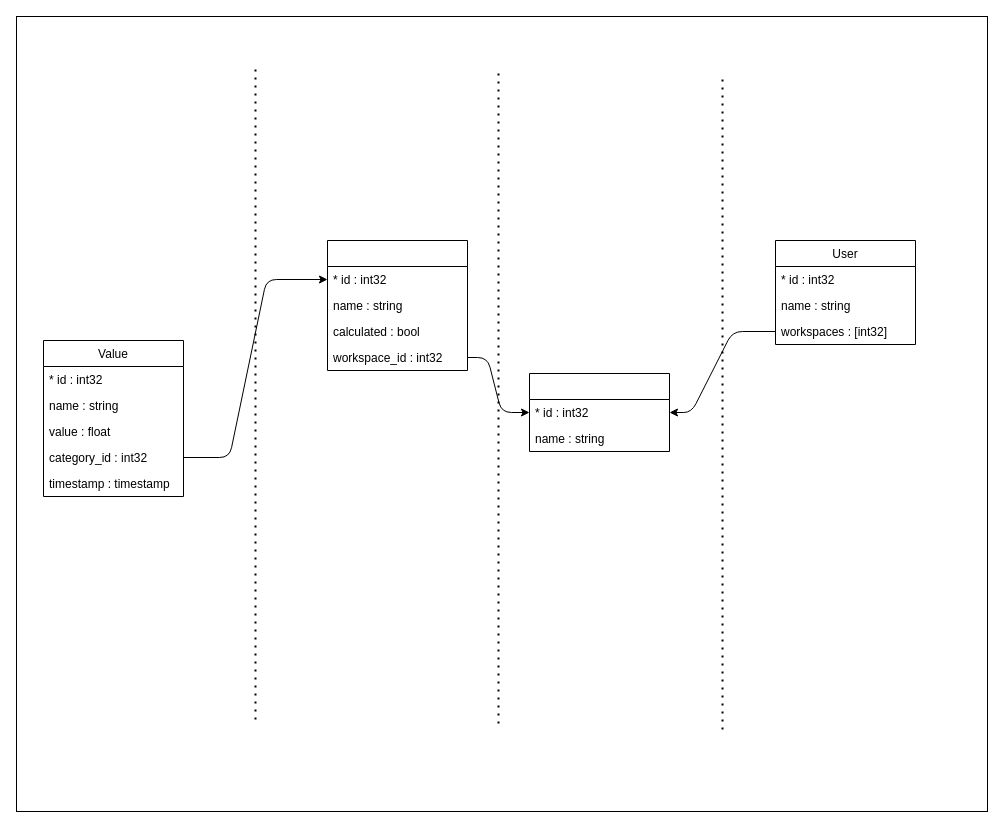
This 1004x828 diagram has some shape labels left out. The shapes that lost their labels are listed below. From the top down, each one's box as (x1, y1, x2, y2) in pixels, then its label:
(326, 240, 468, 370): Category
(528, 372, 670, 452): Workspace
